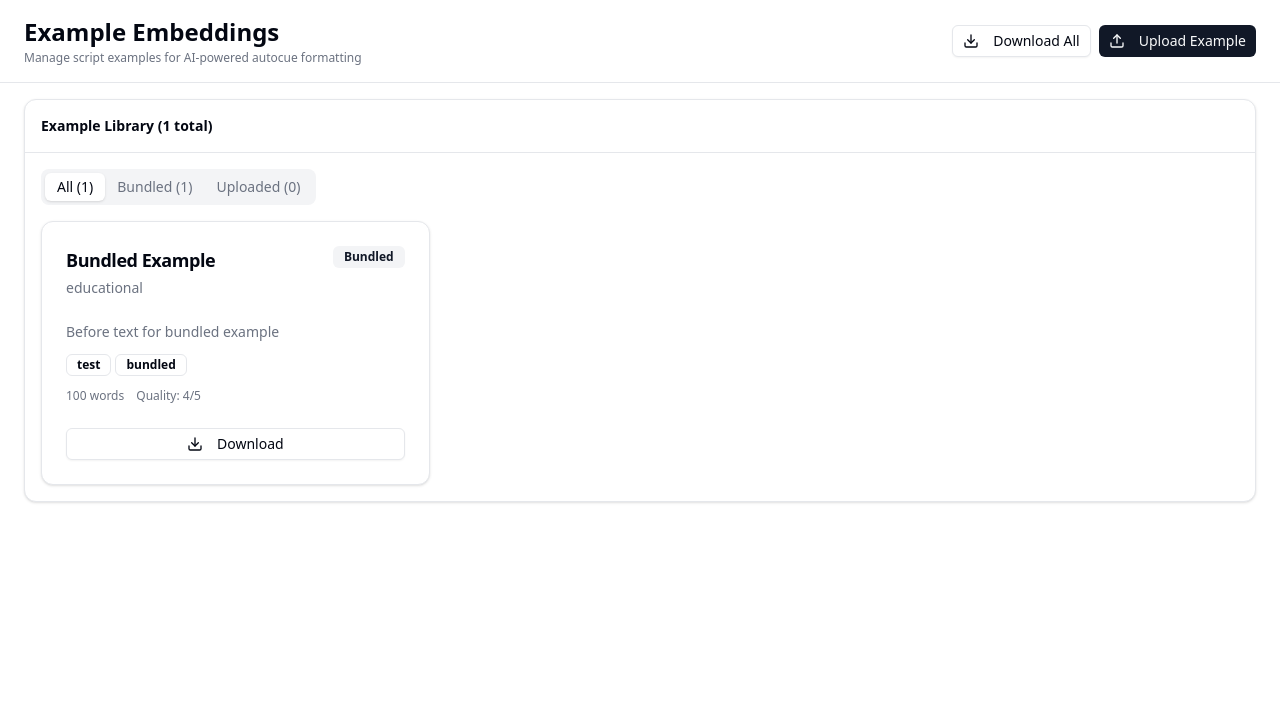
Test: Example Management Integration - Upload Workflow (T019) › should display upload errors to user
Check: the tab "All (1)" is shown, box [45,173,105,201]
Open upload dialog
Step 1. Click the button "Upload Example" → (1177, 41), box [1099,25,1256,57]
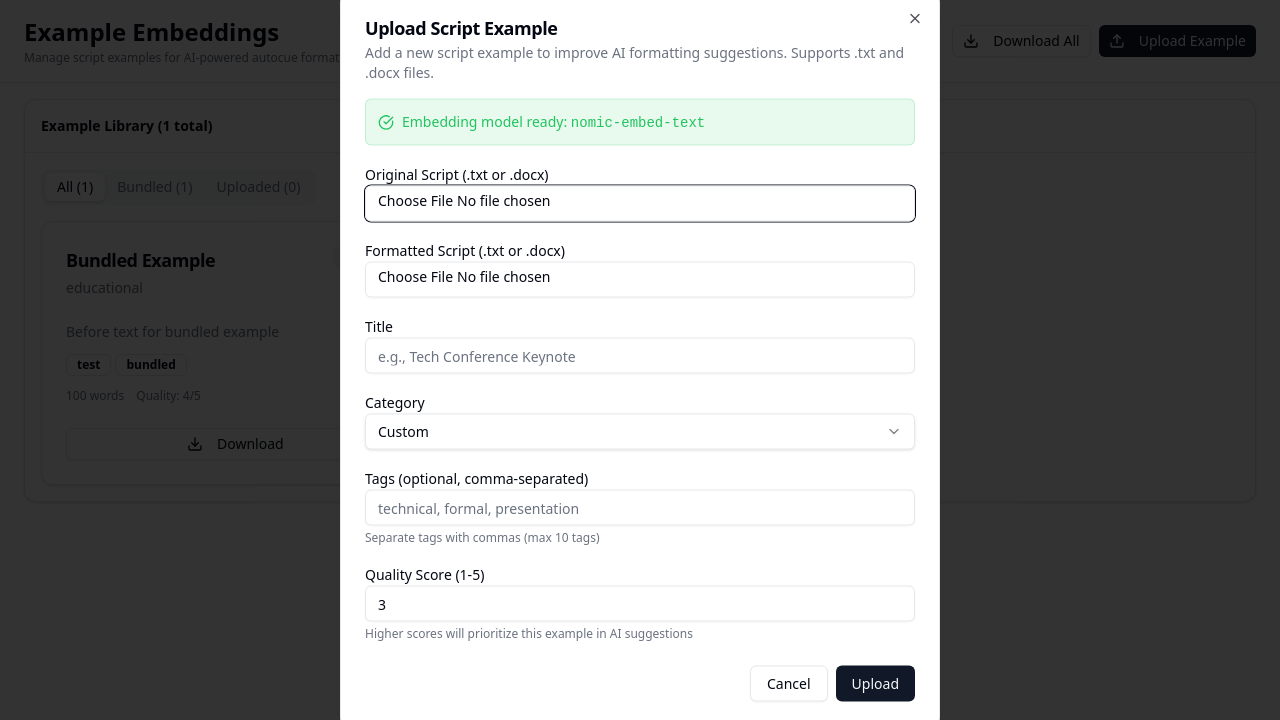
Check: the button "Upload" is shown, box [836,666,915,702]
